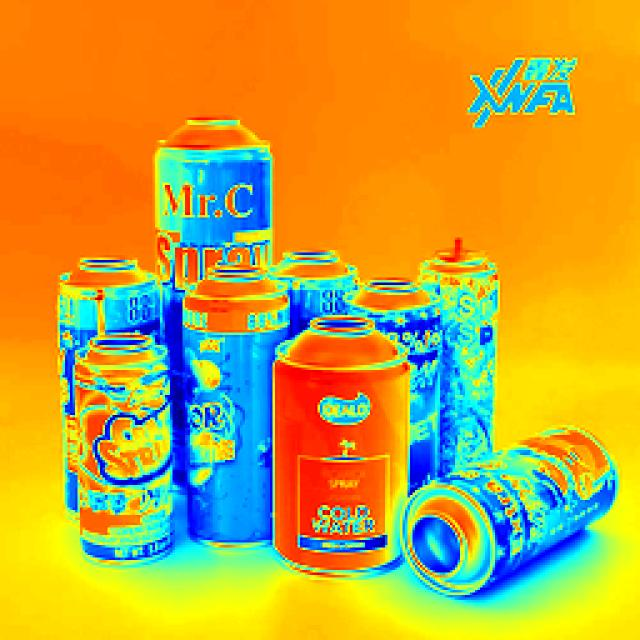Aerosol Cans: (283, 306, 406, 573), (419, 430, 619, 588), (70, 333, 183, 558), (64, 252, 165, 410)
